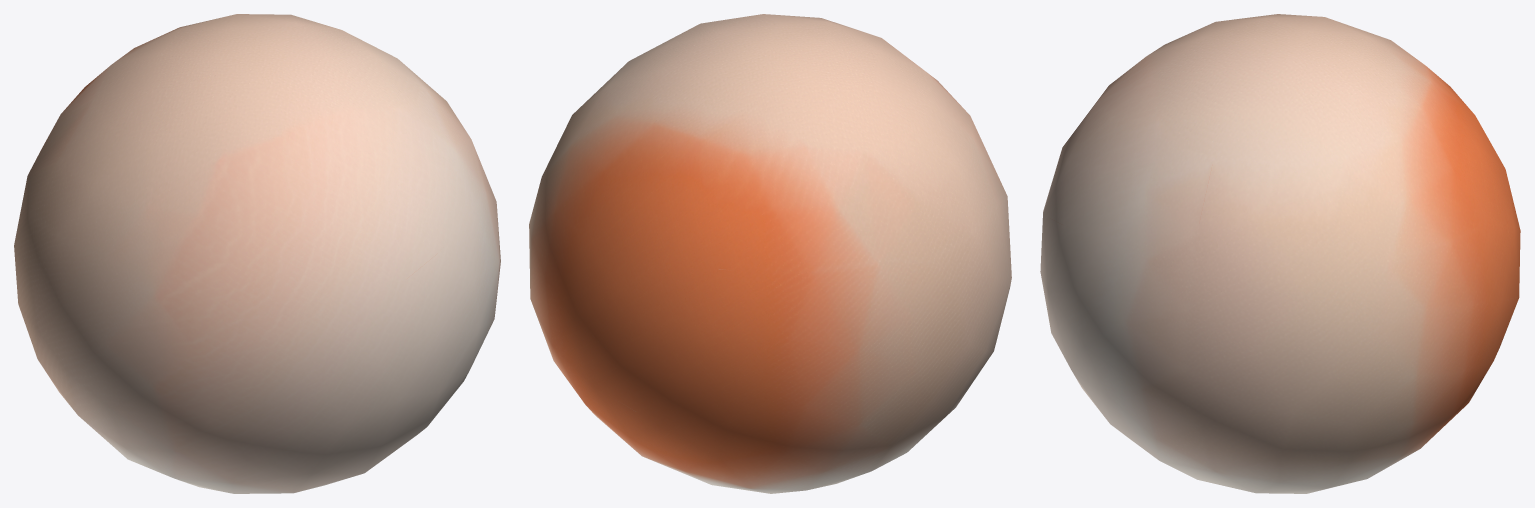
File: ball.glb
The picture shows the model from 3 angles, left to right: view 1: azimuth 30°, elevation 25°; view 2: azimuth 150°, elevation 25°; view 3: azimuth 270°, elevation 25°; orthographic projection.
Bounding box in the file's own units: 0.2001 × 0.2 × 0.2001.
Materials: 1 (1 with a texture image).
